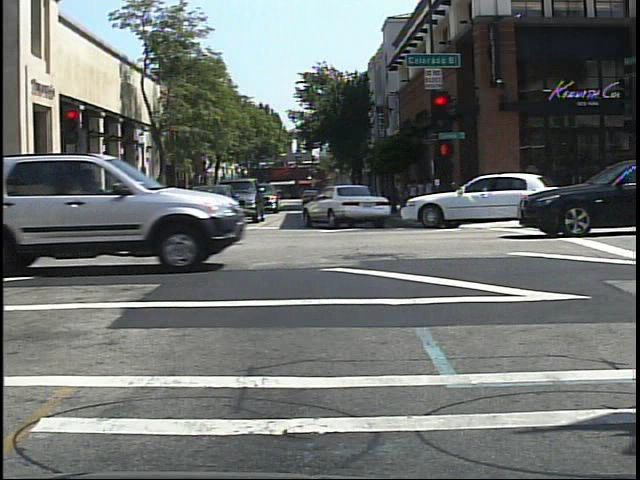person: (117, 181, 135, 220)
